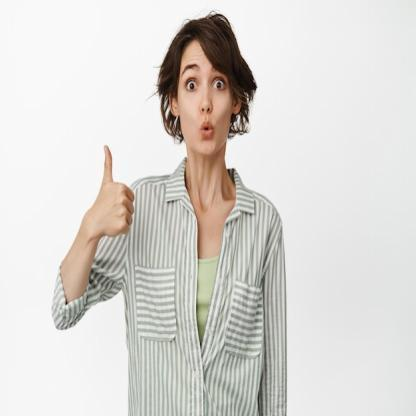thumb_up: (85, 140, 136, 240)
